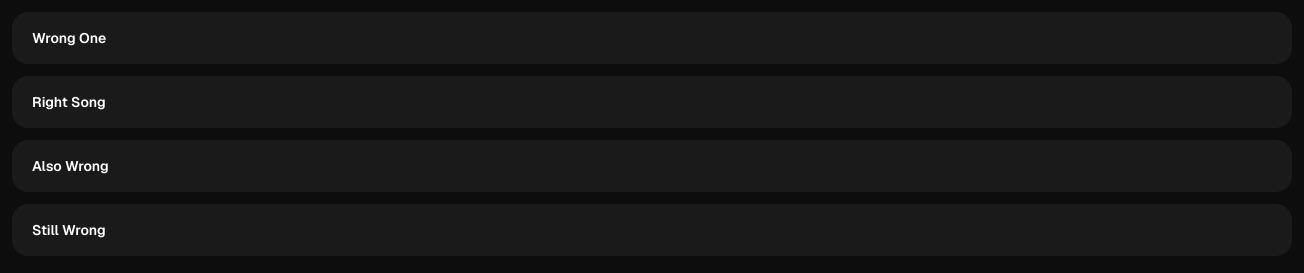
SongQuestion › all buttons are locked after any selection
Click the button "Wrong One" at [69, 38], box top-left (12, 12), bottom-right (1292, 64)
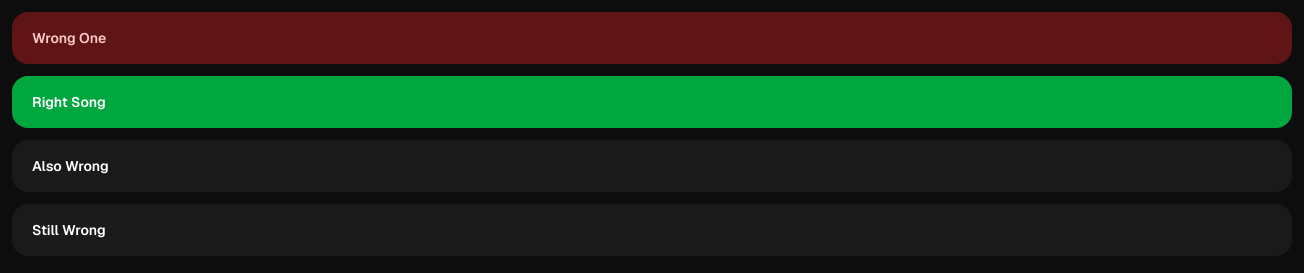
Expected: the button "Also Wrong" is disabled, top-left (12, 140), bottom-right (1292, 192)
Expected: the button "Wrong One" is disabled, top-left (12, 12), bottom-right (1292, 64)
Expected: the button "Right Song" is disabled, top-left (12, 76), bottom-right (1292, 128)
